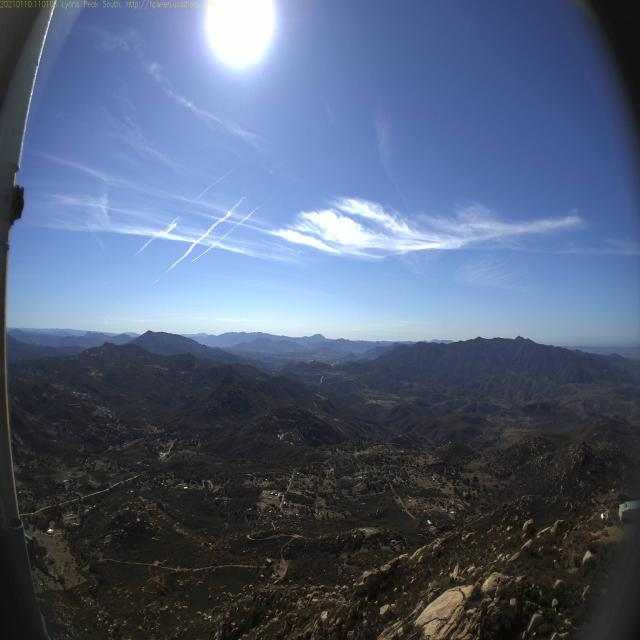smoke: (329, 360, 336, 368)
